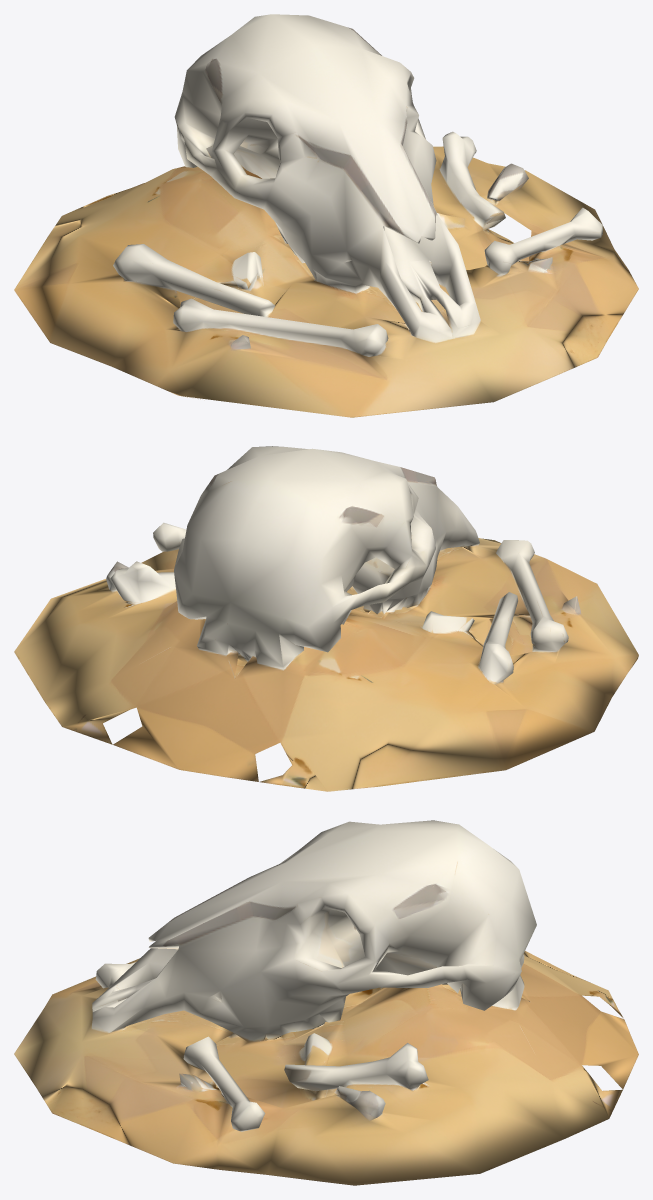
File: irrhakur_skull_1.glb
The picture shows the model from 3 angles, top to bottom: view 1: azimuth 30°, elevation 25°; view 2: azimuth 150°, elevation 25°; view 3: azimuth 270°, elevation 25°; orthographic projection.
Visible parts, largest first — view 1: Mesh_0; view 2: Mesh_0; view 3: Mesh_0.
Part boxes in pixels (bbox=[...]): Mesh_0: bbox=[14, 14, 638, 417]; Mesh_0: bbox=[14, 446, 638, 791]; Mesh_0: bbox=[14, 820, 638, 1185].
Size of the model in its own units: 1.91 by 0.7542 by 1.91.
Materials: 1 (1 with a texture image).
